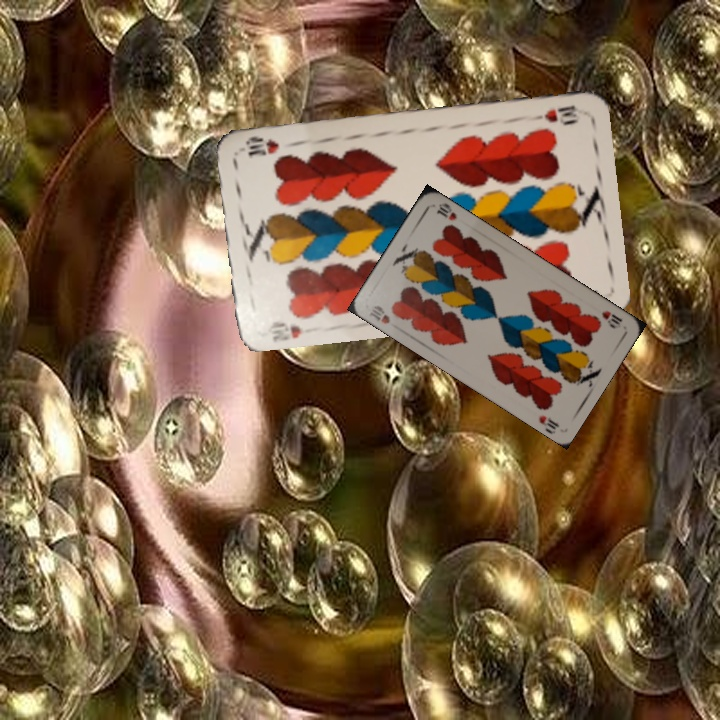H10: (526, 101, 580, 125), (264, 317, 303, 344), (365, 301, 392, 327), (597, 307, 625, 331)
